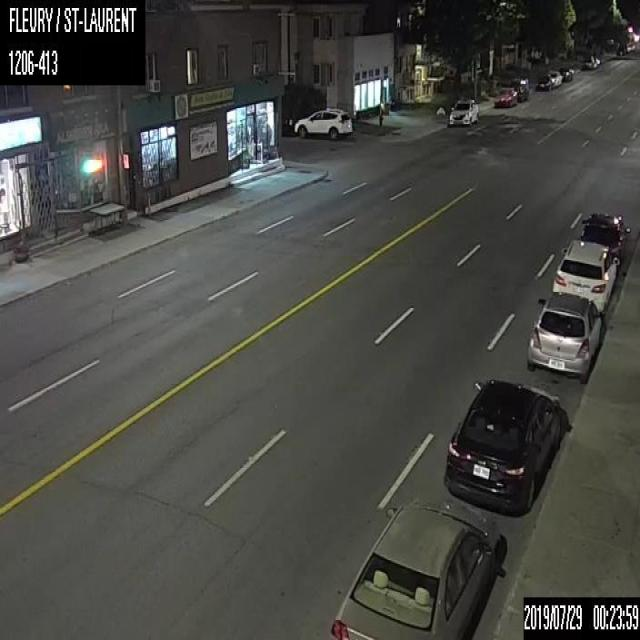vehicle: (328, 498, 500, 638), (442, 378, 562, 514), (526, 292, 604, 376), (552, 238, 618, 310), (580, 211, 629, 260), (293, 108, 352, 140), (447, 96, 478, 127), (508, 77, 529, 102), (494, 86, 516, 106), (534, 73, 552, 92), (281, 112, 294, 135), (547, 70, 562, 86), (580, 54, 595, 70), (558, 66, 573, 81)
